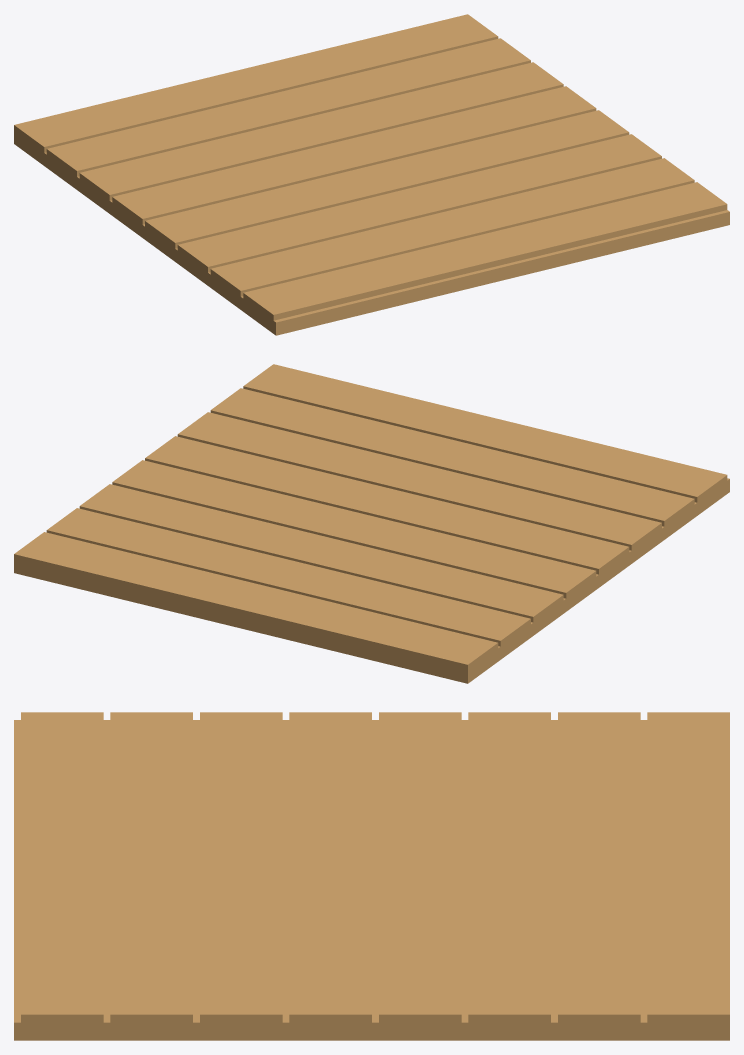
Rendered from cabinFloor.fbx.
3 views of the same model, one above another, from view 1: azimuth 30°, elevation 25°; view 2: azimuth 150°, elevation 25°; view 3: azimuth 270°, elevation 25° (orthographic). The views are drawn at different scales.
Visible parts, largest first — view 1: cabinFloor; view 2: cabinFloor; view 3: cabinFloor.
Part boxes in pixels (x1,y1,x2,y2): cabinFloor: (14,14,729,335); cabinFloor: (14,364,729,683); cabinFloor: (14,712,729,1040).
Size of the model in its own units: 10 by 0.4 by 10.
